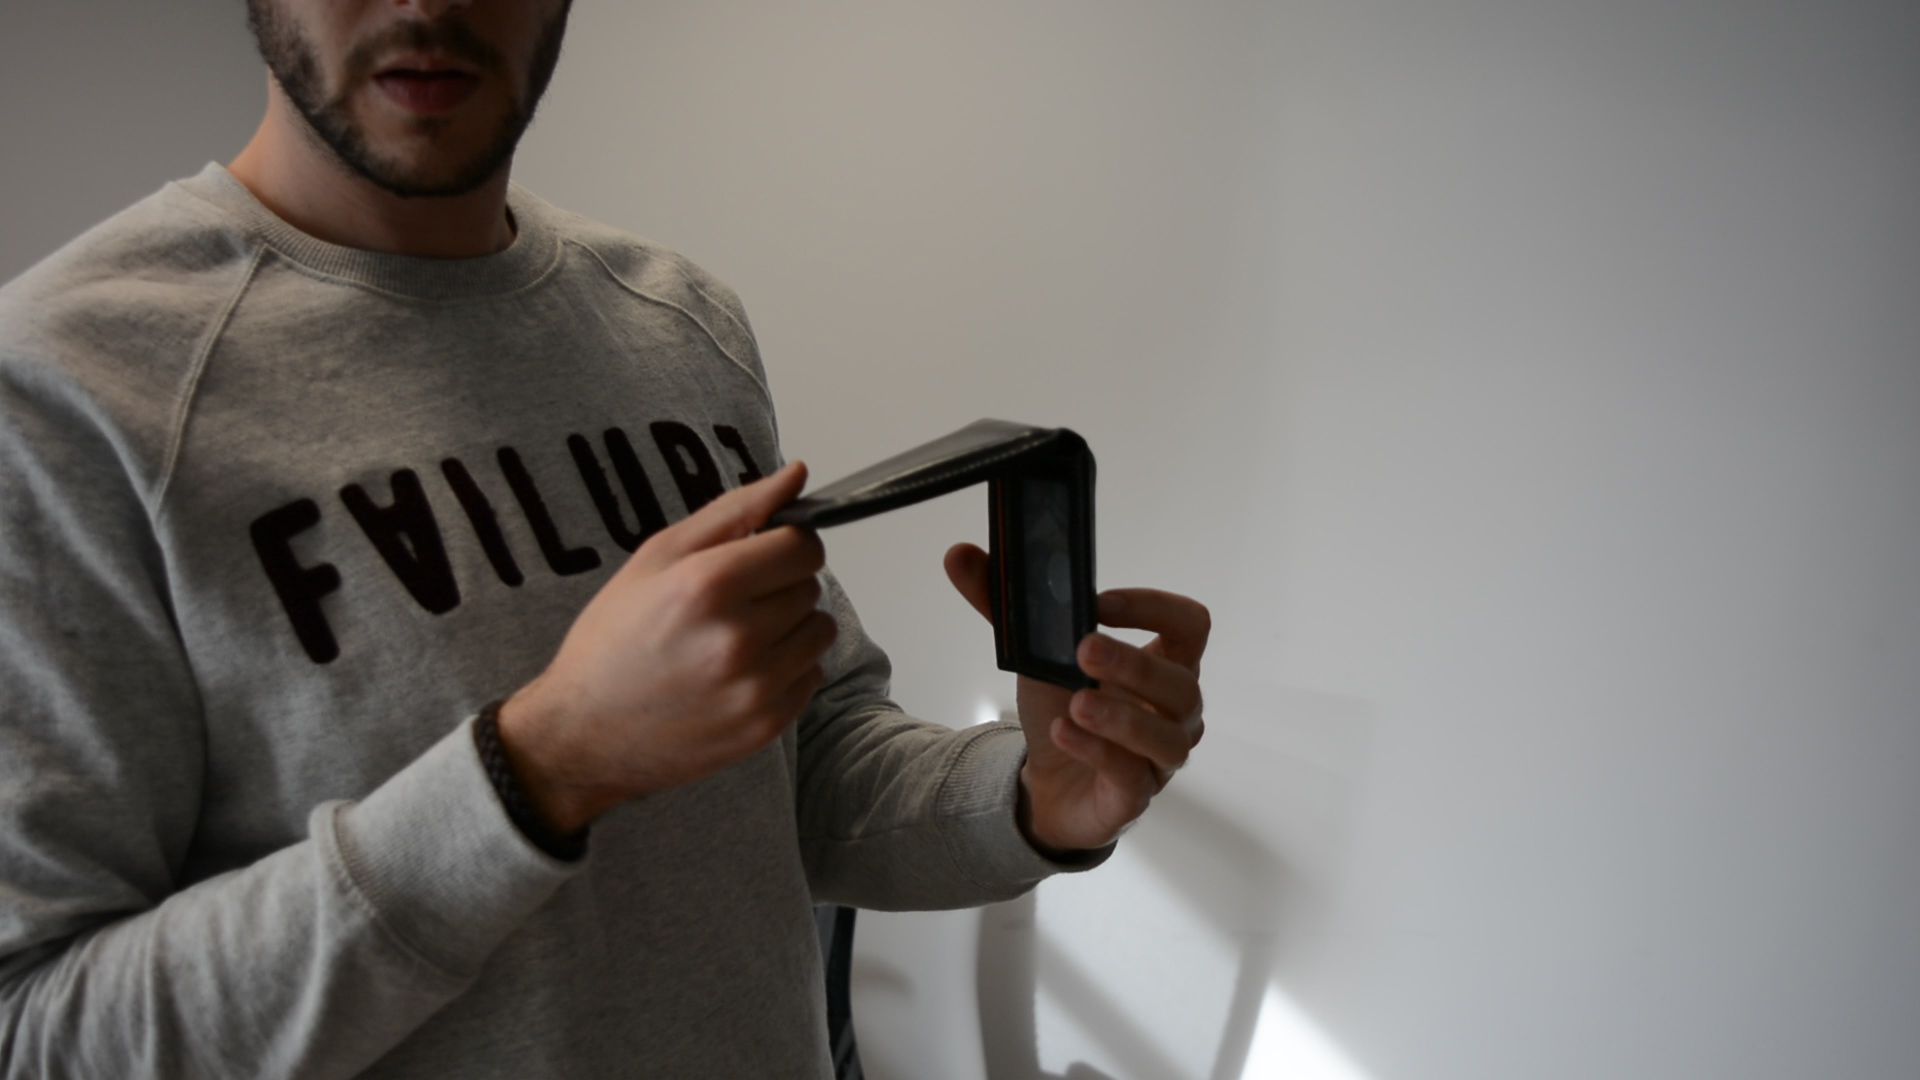monedero: (746, 415, 1104, 696)
